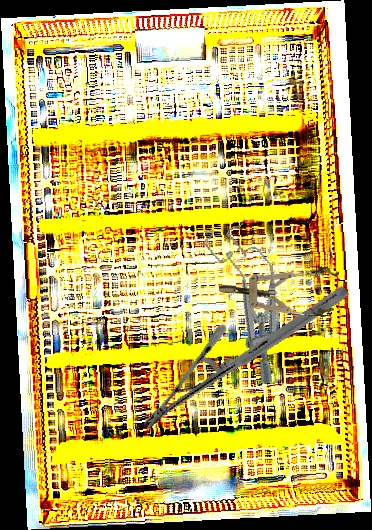Needle Holder: (139, 233, 352, 483)
Speculum: (199, 214, 307, 389), (218, 262, 339, 318)
